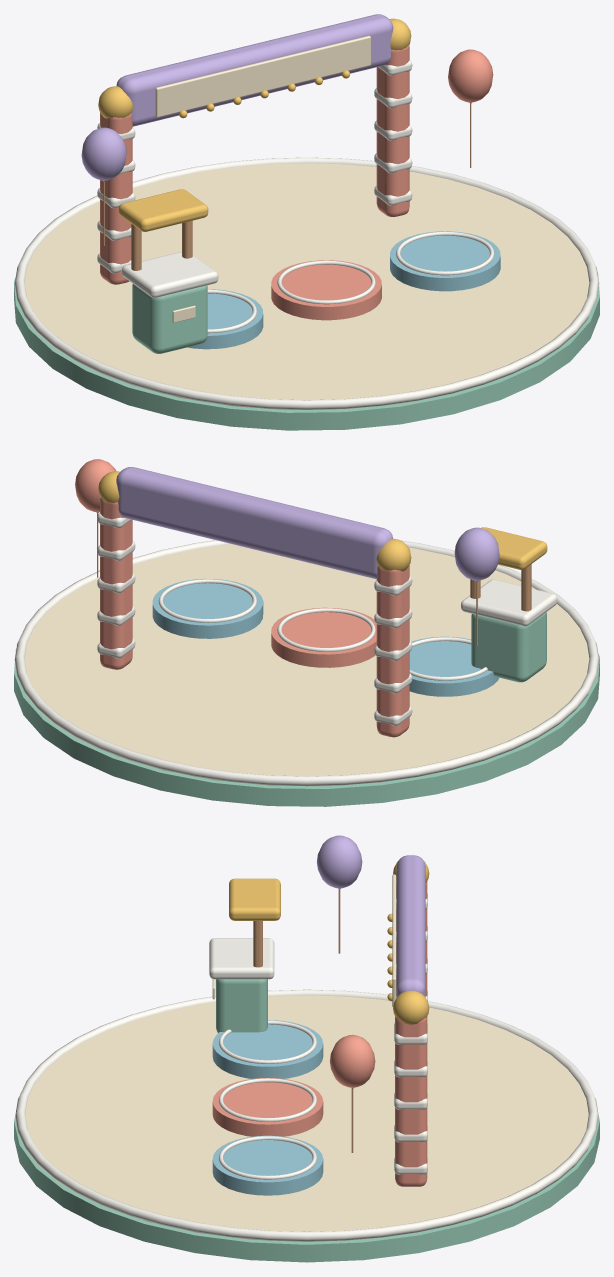
File: welcome.glb
The picture shows the model from 3 angles, top to bottom: view 1: azimuth 30°, elevation 25°; view 2: azimuth 150°, elevation 25°; view 3: azimuth 270°, elevation 25°; orthographic projection.
Visible parts, largest first — view 1: Island, WelcomeArch, carnival_welcome, TicketBooth; view 2: Island, WelcomeArch, carnival_welcome, TicketBooth; view 3: Island, carnival_welcome, WelcomeArch, TicketBooth.
Part boxes in pixels (<box>): Island: <box>14,157,599,430</box>; WelcomeArch: <box>97,14,412,284</box>; carnival_welcome: <box>81,49,500,349</box>; TicketBooth: <box>118,189,218,353</box>; Island: <box>14,540,599,806</box>; WelcomeArch: <box>97,467,412,737</box>; carnival_welcome: <box>75,459,499,696</box>; TicketBooth: <box>461,527,557,682</box>; Island: <box>14,989,599,1262</box>; carnival_welcome: <box>212,835,375,1195</box>; WelcomeArch: <box>387,855,429,1186</box>; TicketBooth: <box>209,878,280,1032</box>.
Bounding box in the file's own units: 9 × 3.75 × 9.
